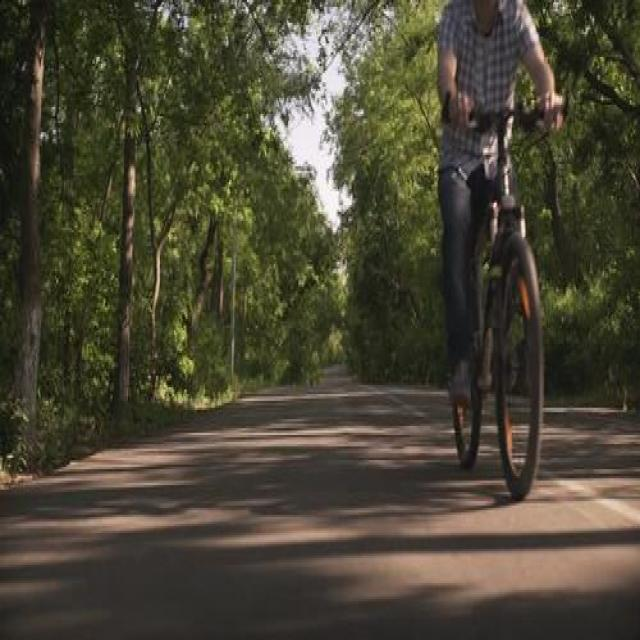bikerider: (421, 2, 580, 512)
